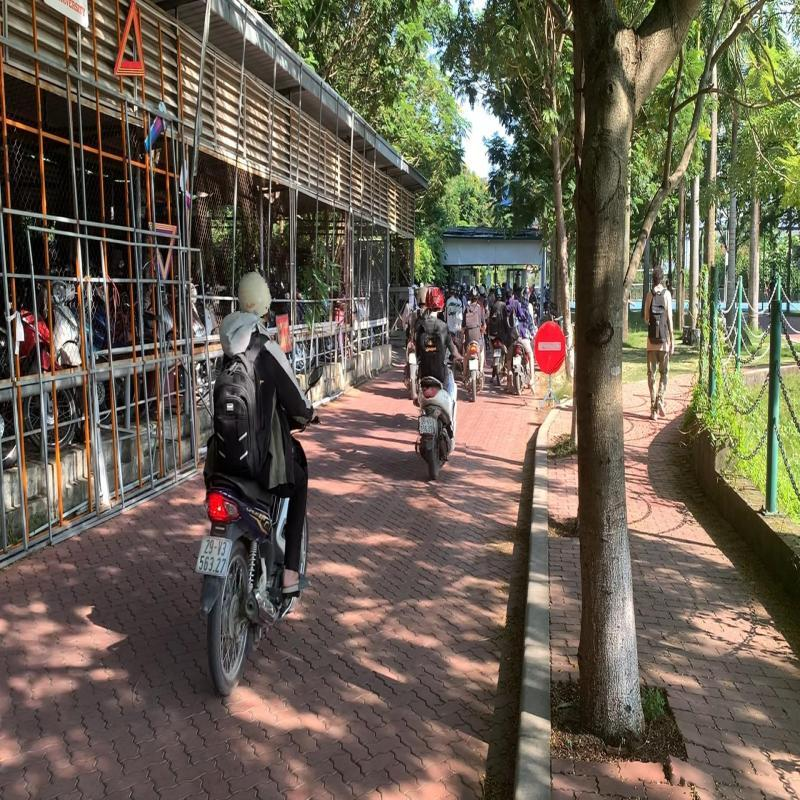helmet: (237, 270, 274, 326), (430, 287, 444, 312)
licenseplate: (194, 536, 234, 578), (418, 415, 435, 436)
motorcyclist: (193, 268, 314, 697), (411, 286, 464, 481)
